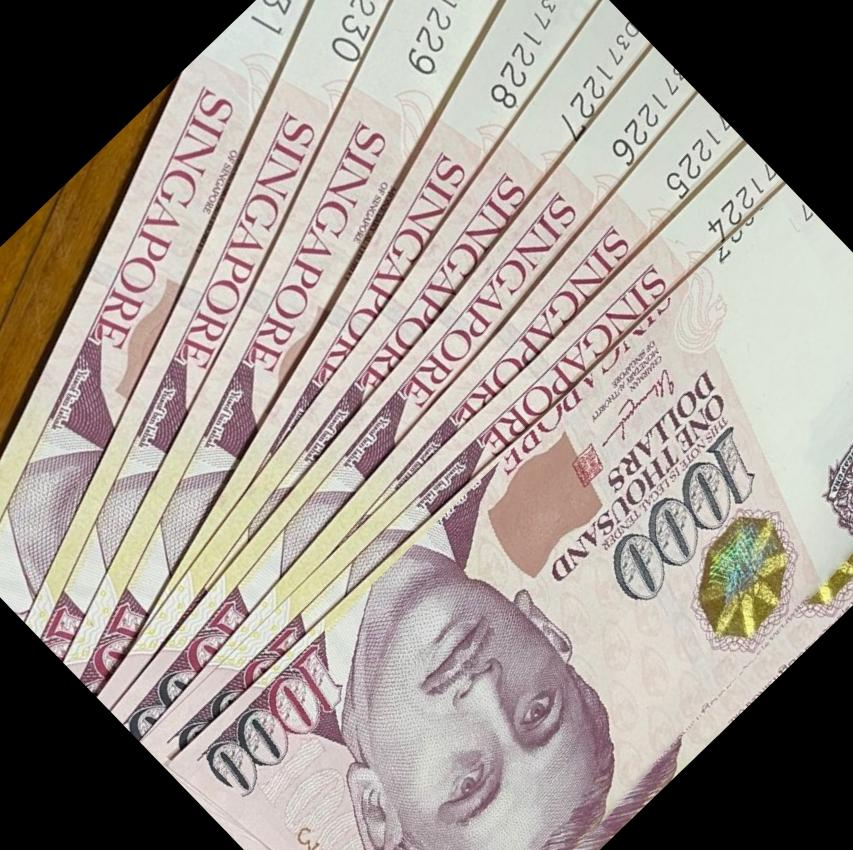1000SingaporeDollar: (199, 184, 853, 850)
